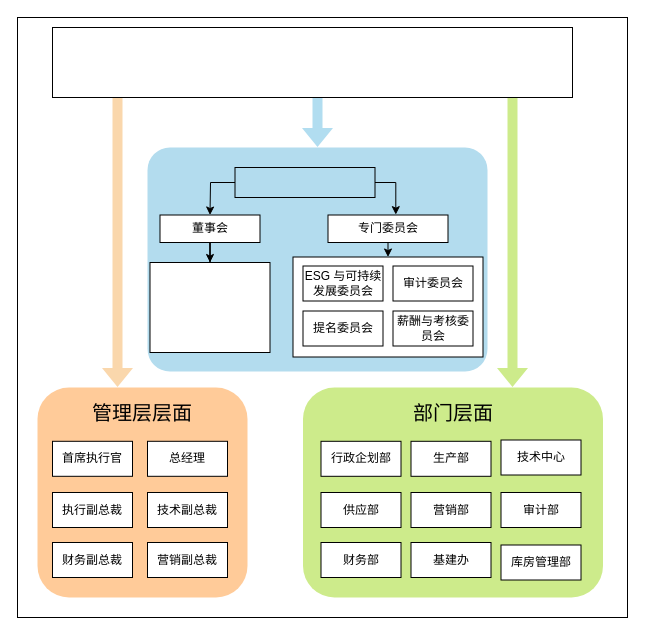
Image size: 645x635. Some labels were removed from this diagram. The centre of each missing label's shape, as x and y in pixels:
"公司治理层面" goes at [304,182].
"制定战略方向、重大决策，成员由股东大会选举，含董事长、董事等" goes at [209,307].
"天齐锂业公司整体" goes at [312,62].
